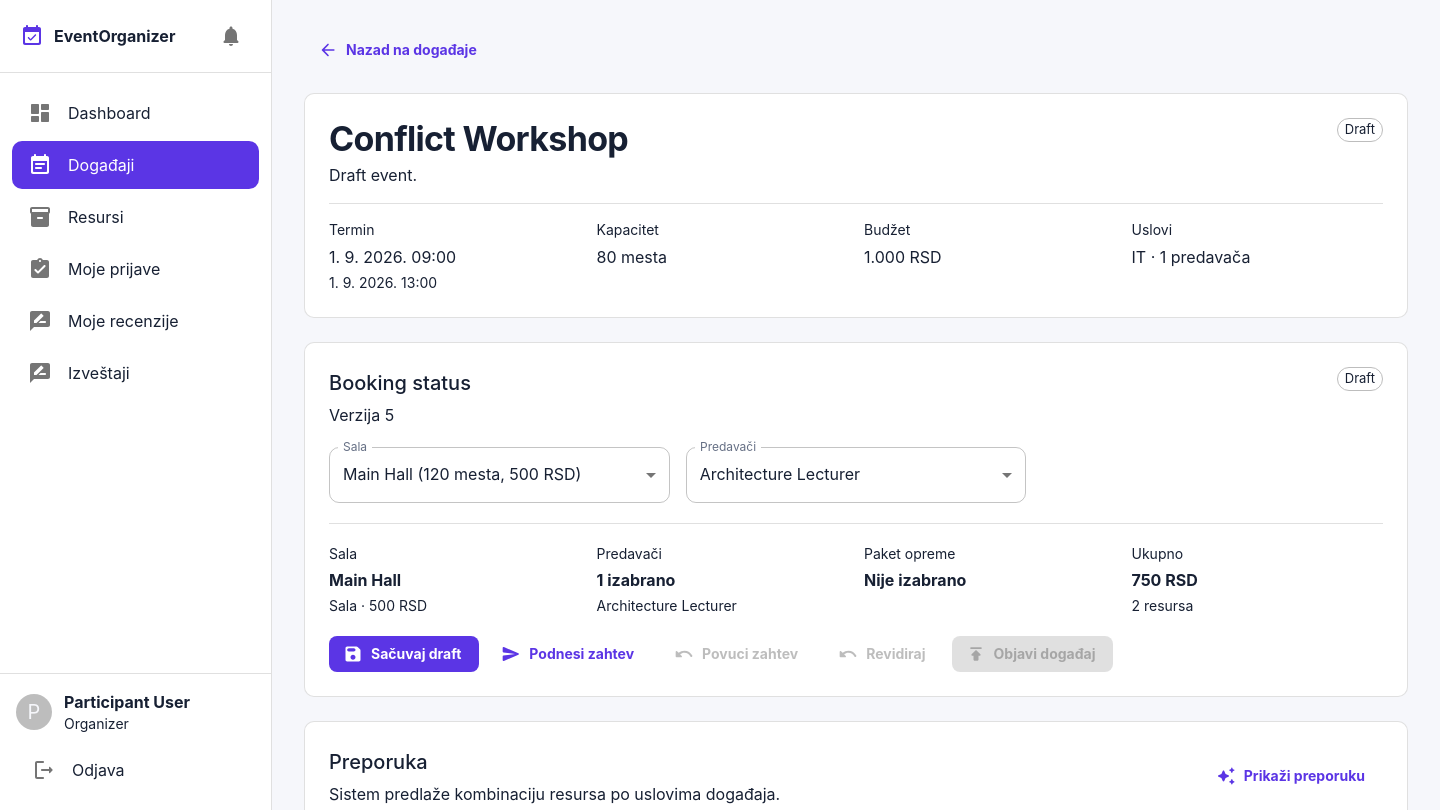
Test: App › shows booking submission conflicts in the planning workspace
Check: the heading "Conflict Workshop" is shown, box [329,118,628,160]
Click the button "Podnesi zahtev": (570, 654) [487,636,652,672]
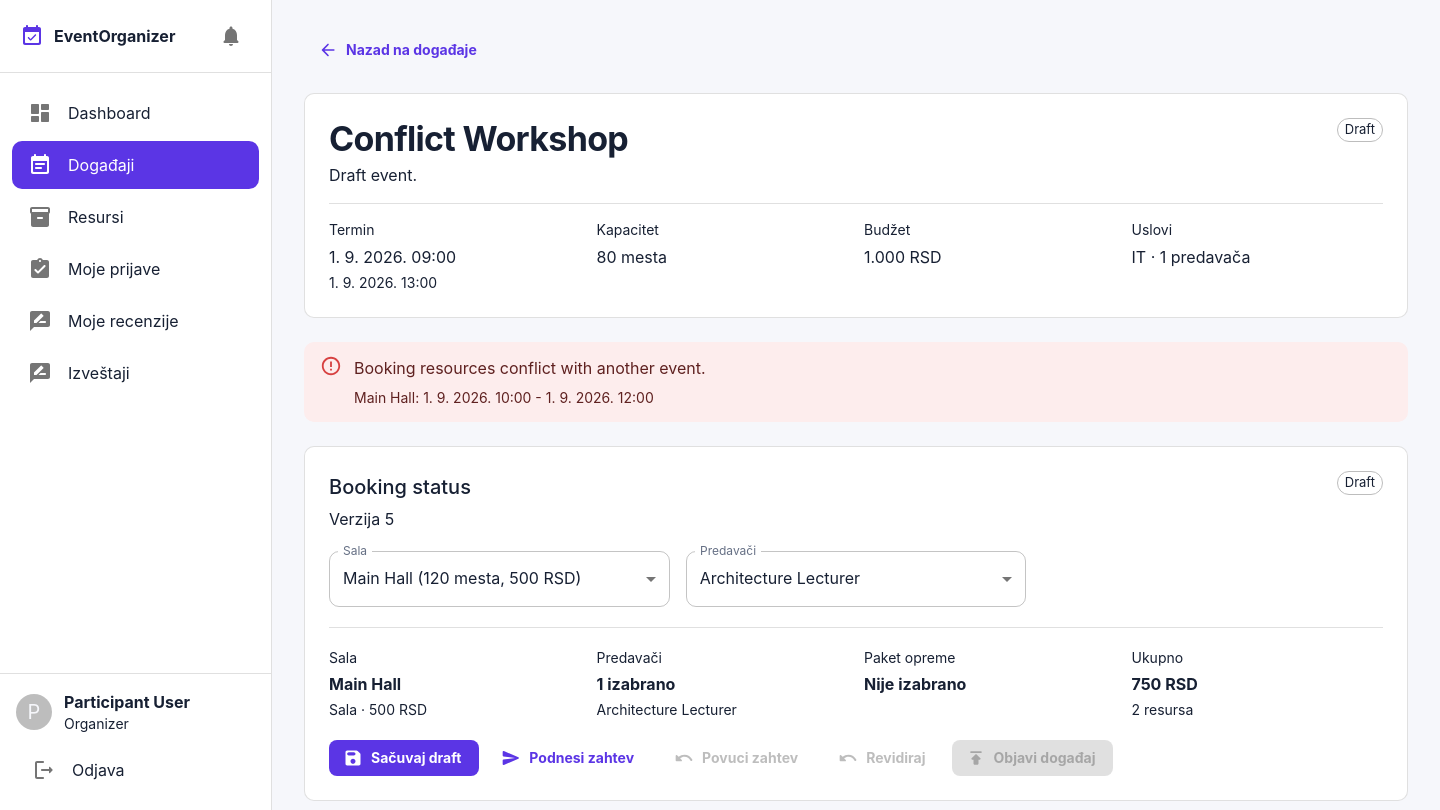
Check: the text "Booking resources conflict with another event." is shown, box [354,356,706,380]
Check: the text "Main Hall: 1. 9. 2026. 10:00 - 1. 9. 2026. 12:00" is shown, box [354,388,706,408]
